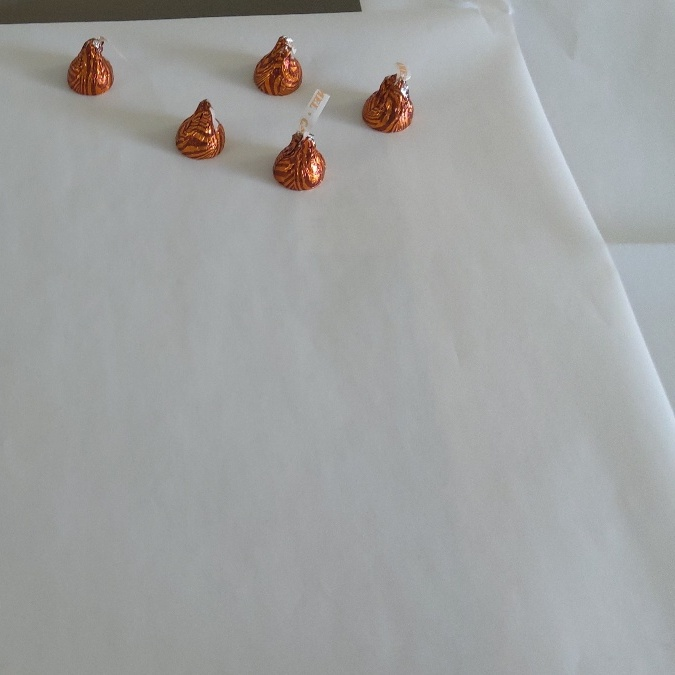chocolate_gold: (61, 40, 118, 101), (250, 39, 307, 99), (269, 131, 325, 192), (361, 74, 417, 135), (175, 102, 231, 162)
